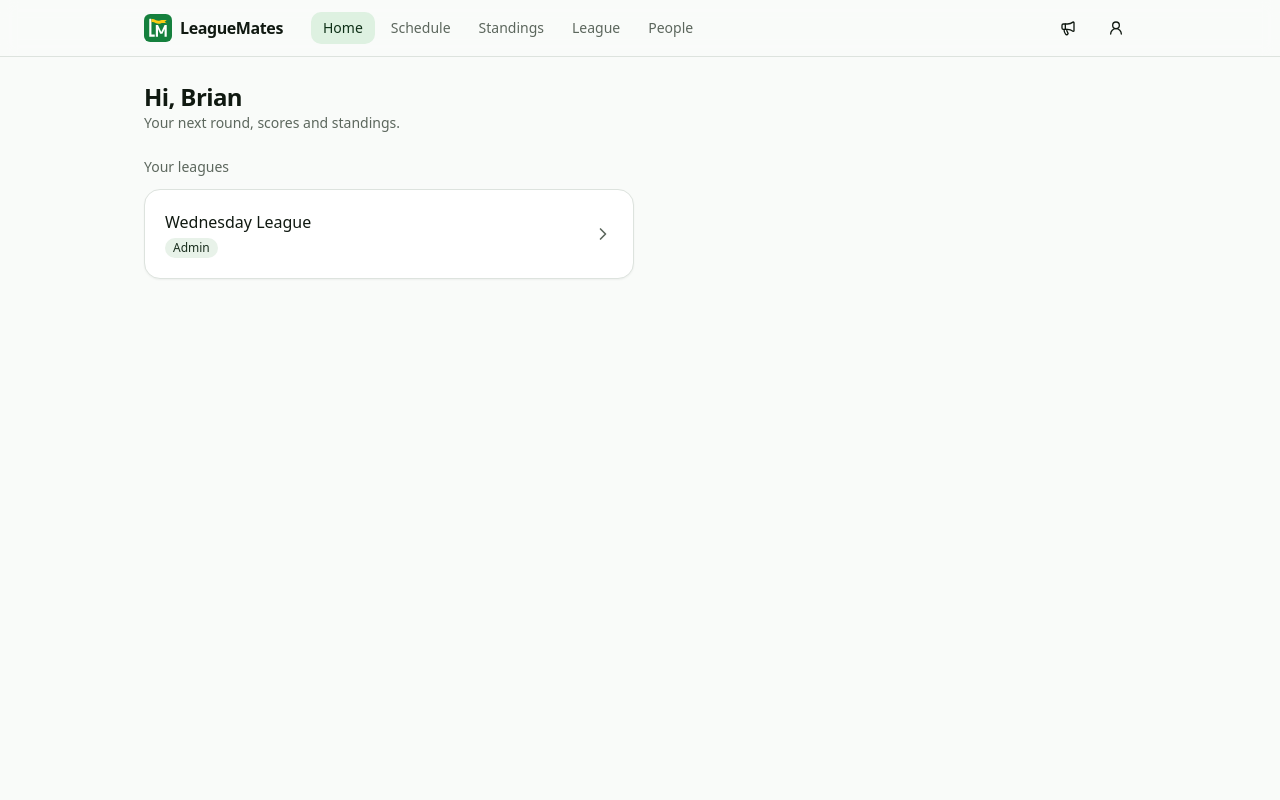
Test: report a problem › sends a report from the profile menu with the current page
Click the button named "Account menu" at (1116, 28), box 1096,8 -> 1136,48
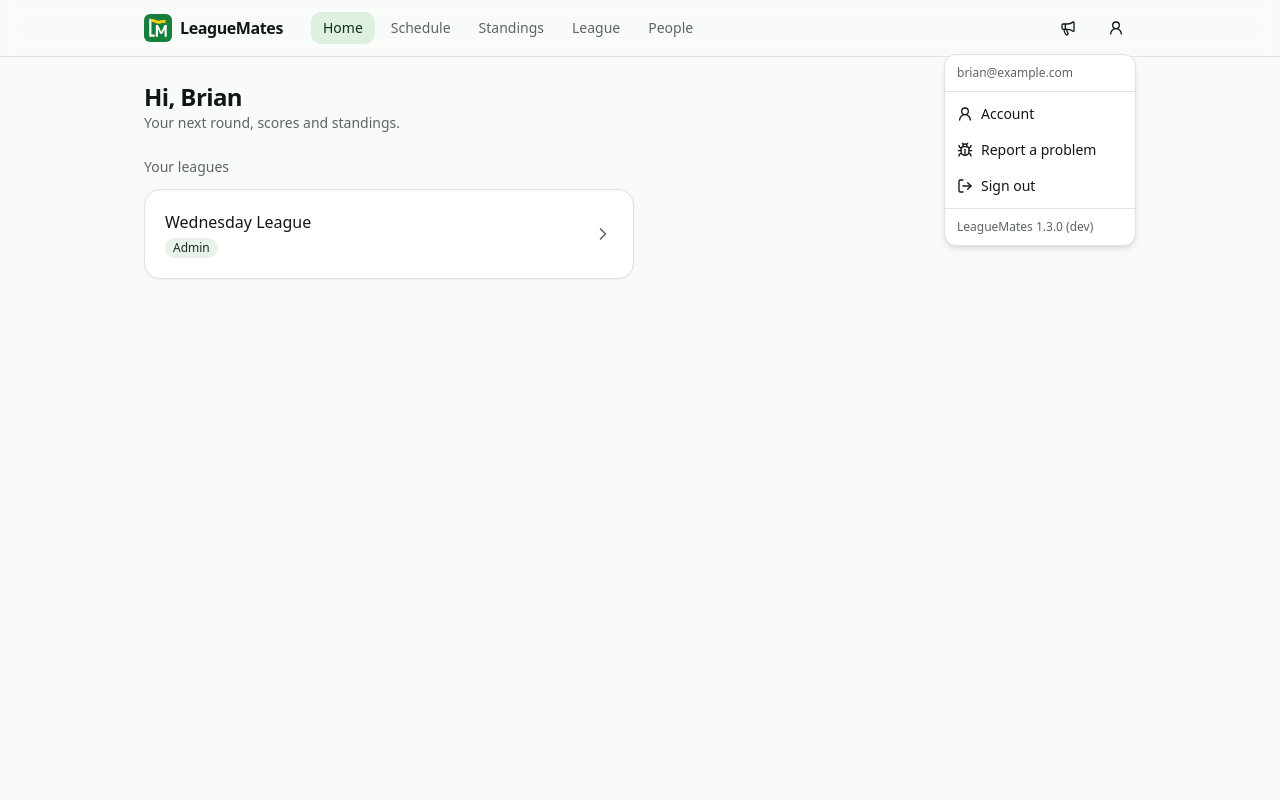
Click the menu item "Report a problem" at (1027, 150), box 957,140 -> 1096,159
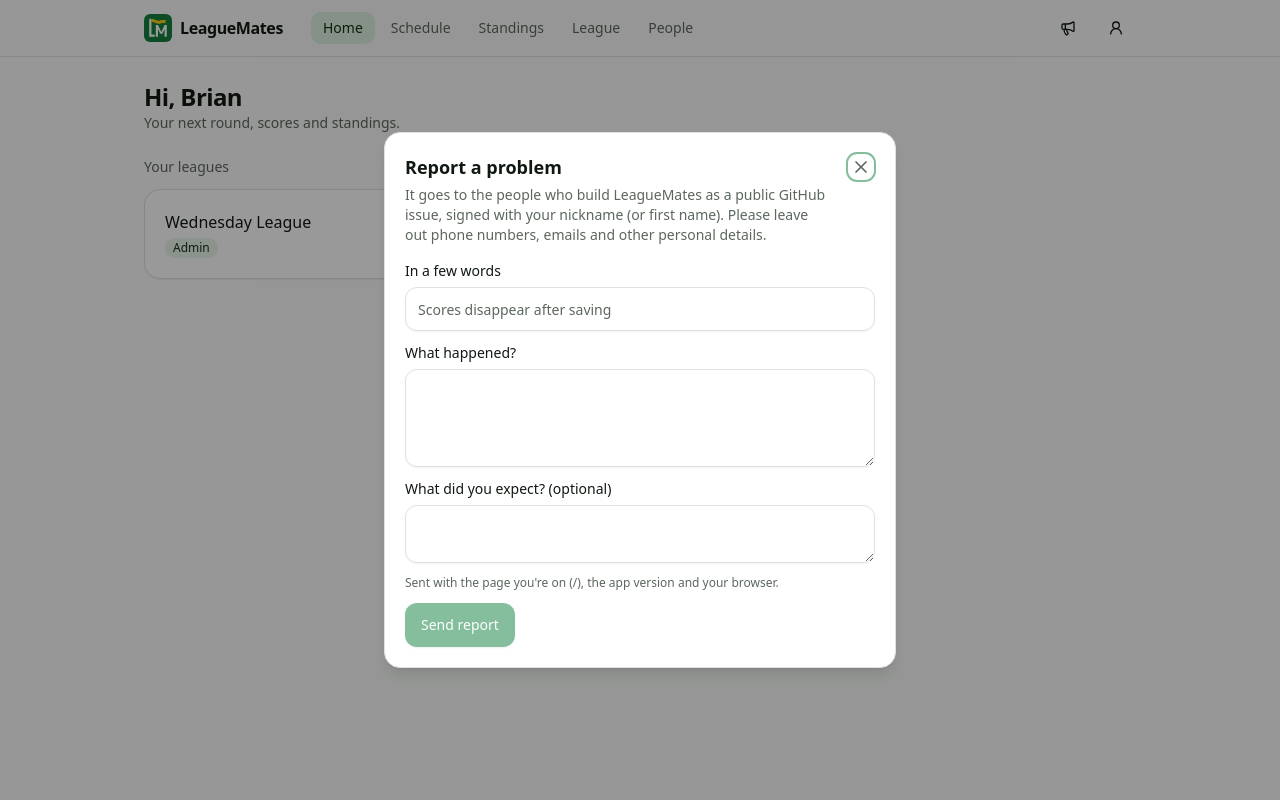
Now the text "public GitHub issue, signed with your nickname" is shown, box 405,185 -> 825,244
Now the button "Send report" is disabled, box 405,603 -> 515,647
Type "Scores vanish" into the field labelled "In a few words" at (640, 309), box 405,287 -> 875,331
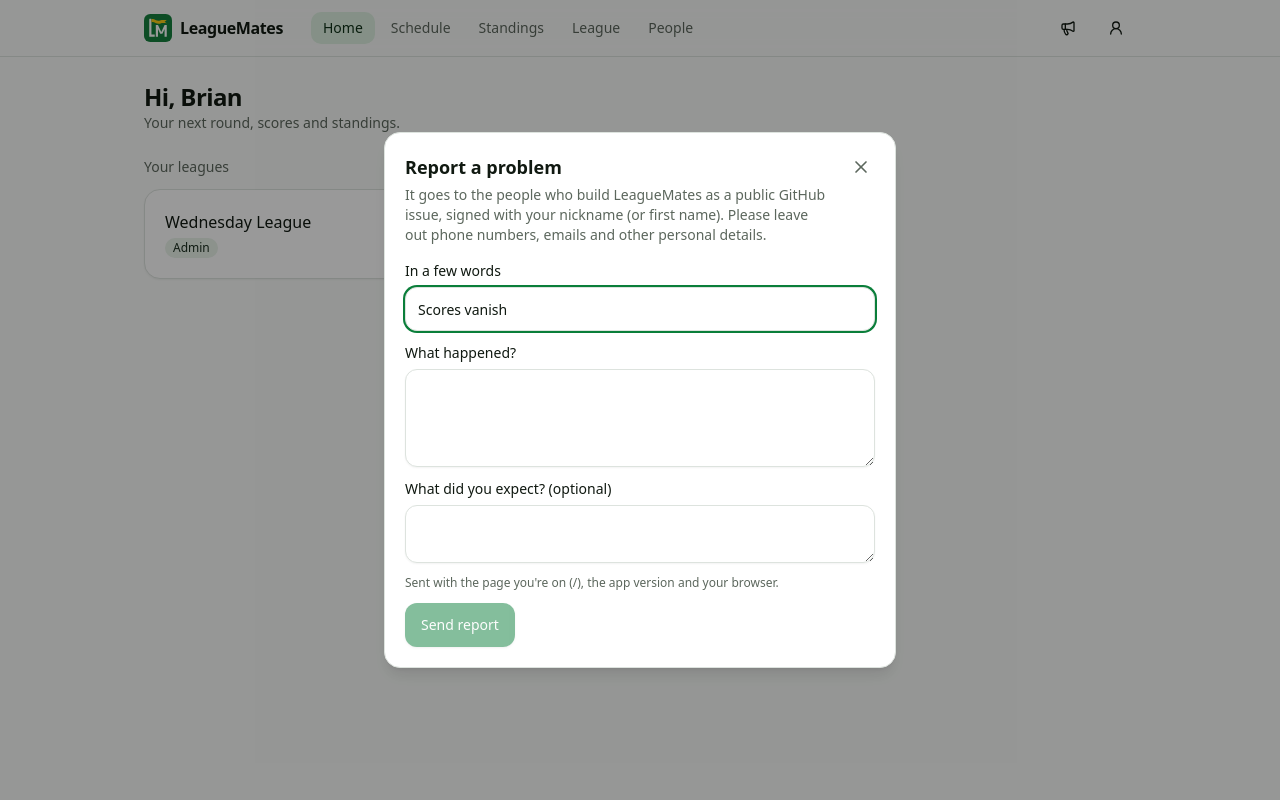
Type "Hole 3 went blank" into the text box labelled "What happened?" at (640, 418), box 405,369 -> 875,467
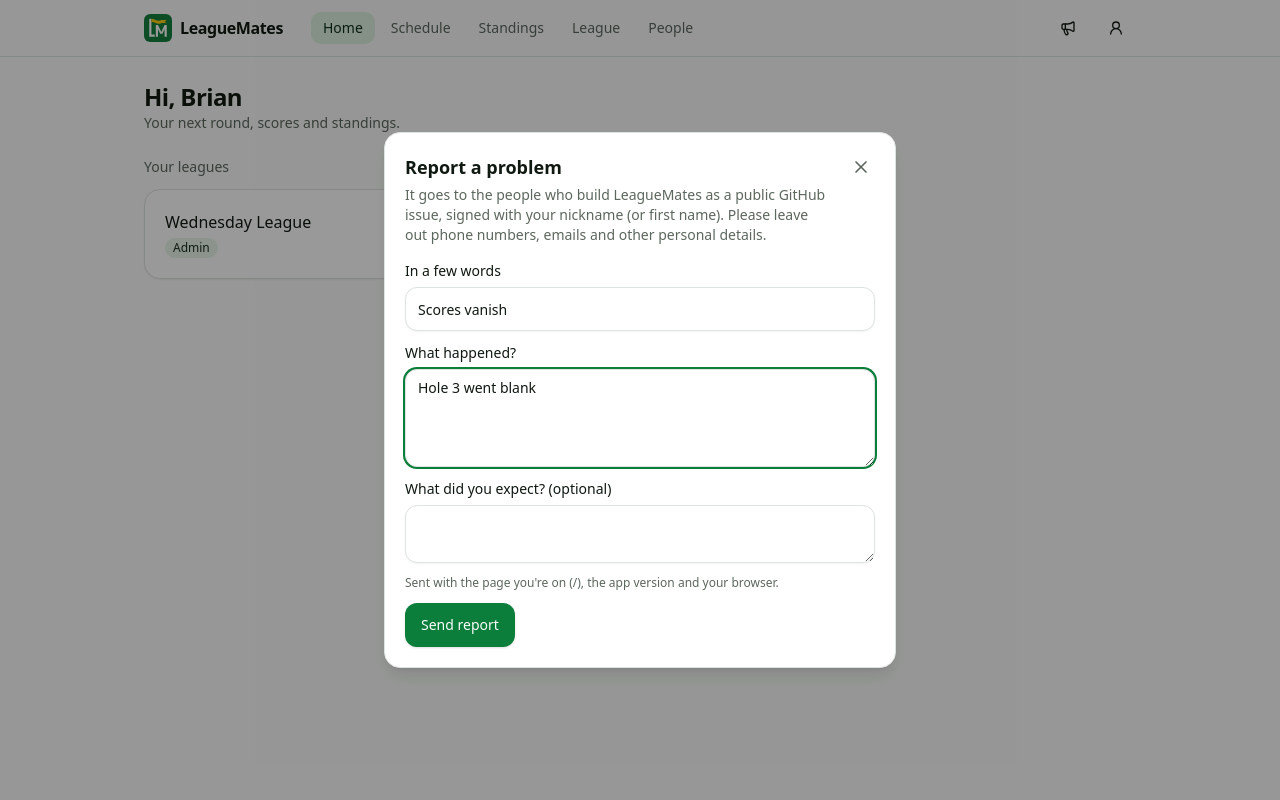
Click the button "Send report" at (460, 625), box 405,603 -> 515,647
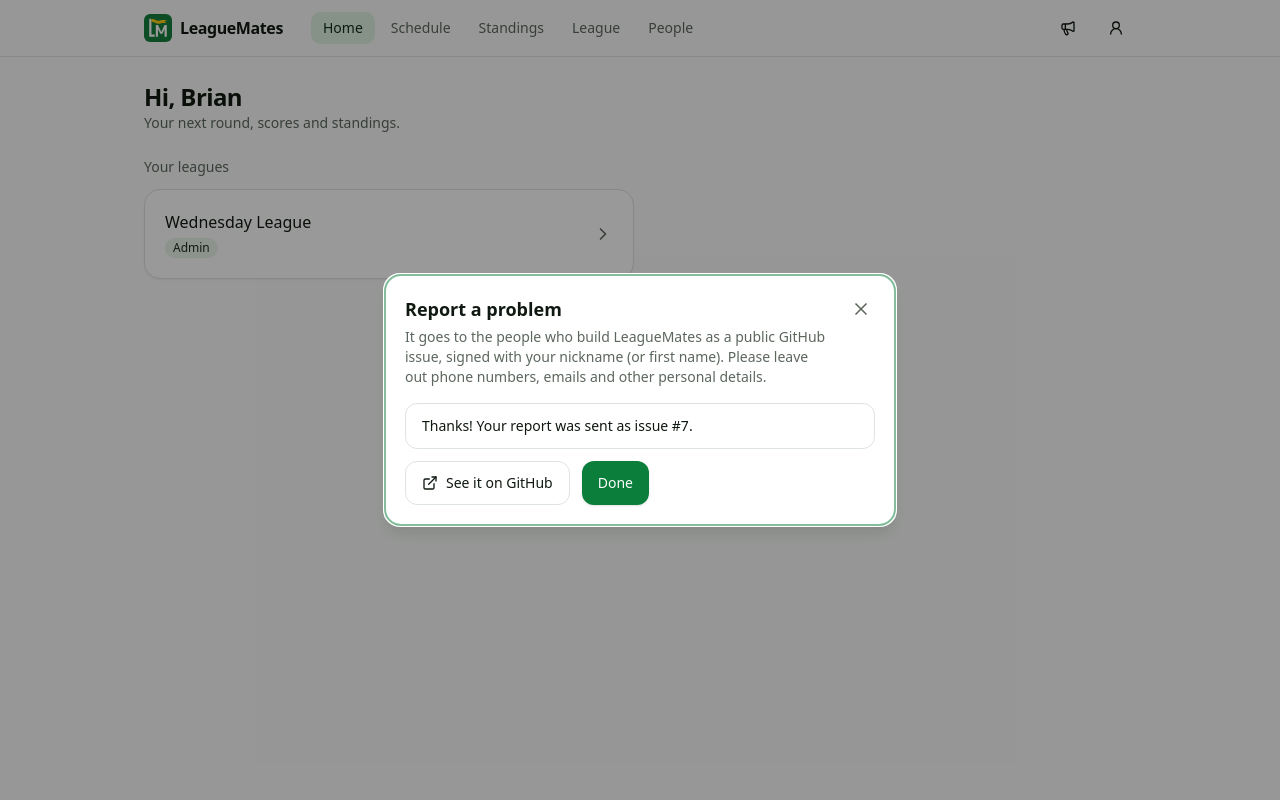
Now the text "Thanks! Your report was sent as issue #7." is shown, box 405,403 -> 875,449
